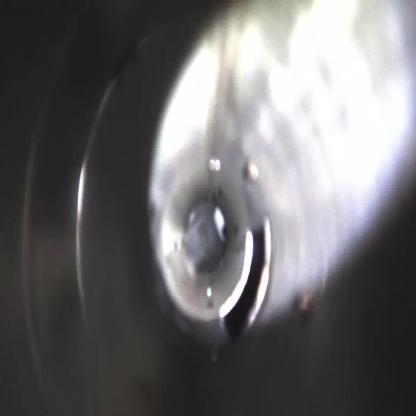Crack2: (221, 216, 272, 344)
